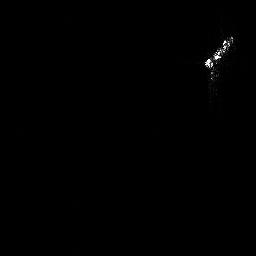ship: (203, 35, 236, 83)
